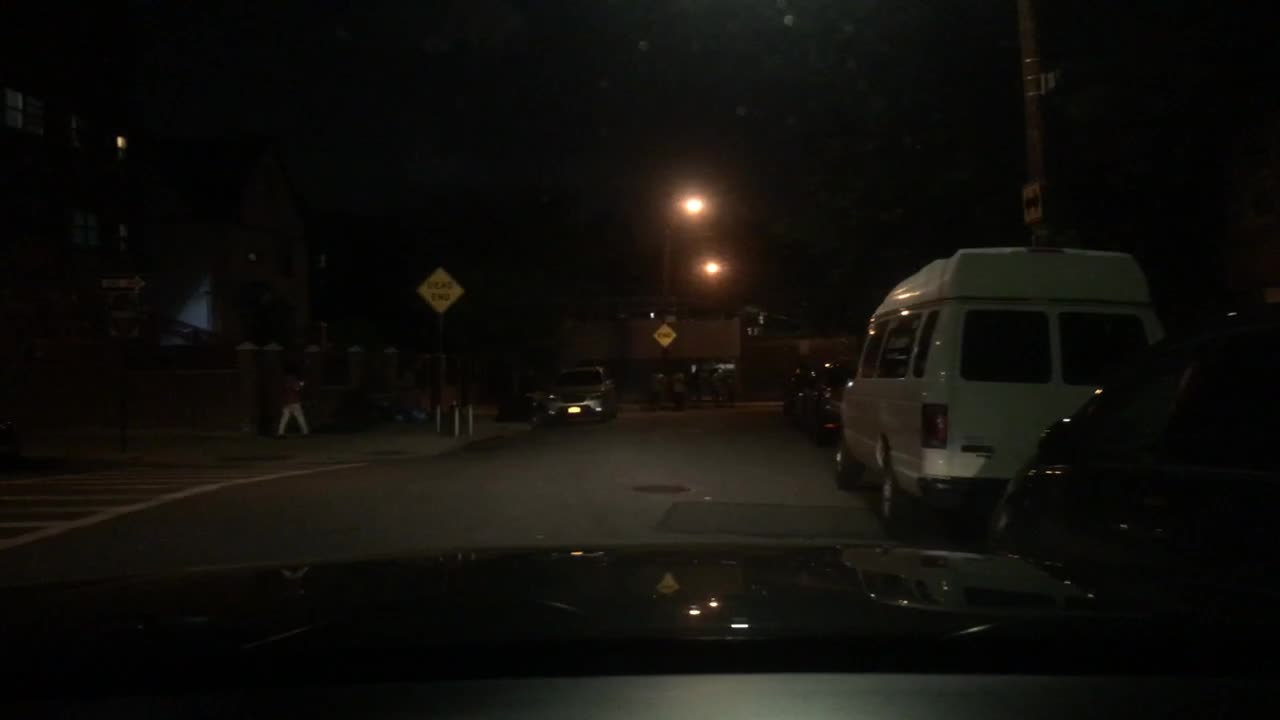car: (836, 245, 1164, 538), (1000, 295, 1277, 640), (799, 354, 857, 434), (539, 365, 614, 425), (782, 365, 812, 416)
person: (273, 369, 310, 436), (651, 365, 666, 413), (673, 370, 688, 412), (728, 372, 737, 407), (713, 369, 720, 410)
traffic sign: (419, 267, 462, 316), (110, 293, 138, 333), (101, 273, 153, 290), (1020, 183, 1043, 218), (654, 323, 674, 345)
